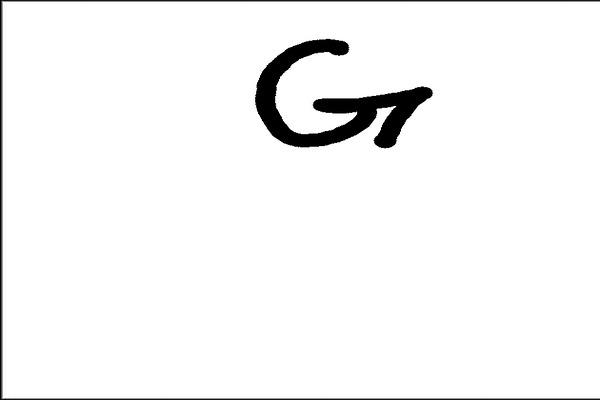G: (248, 32, 437, 163)
